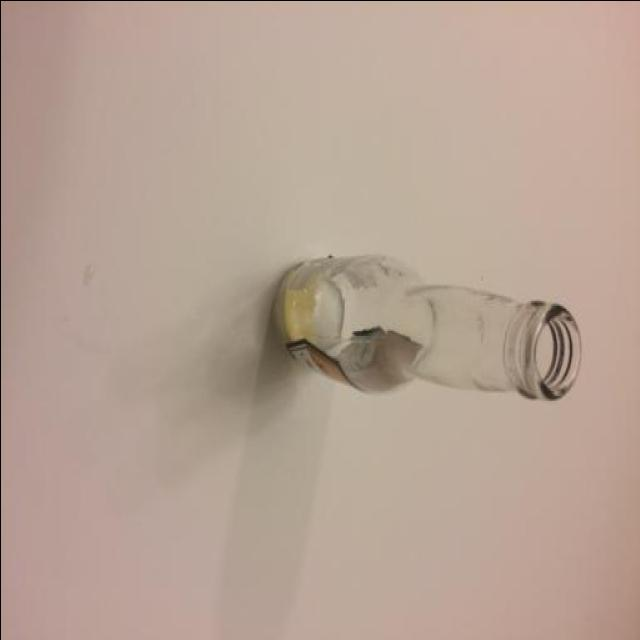glass: (272, 252, 582, 398)
